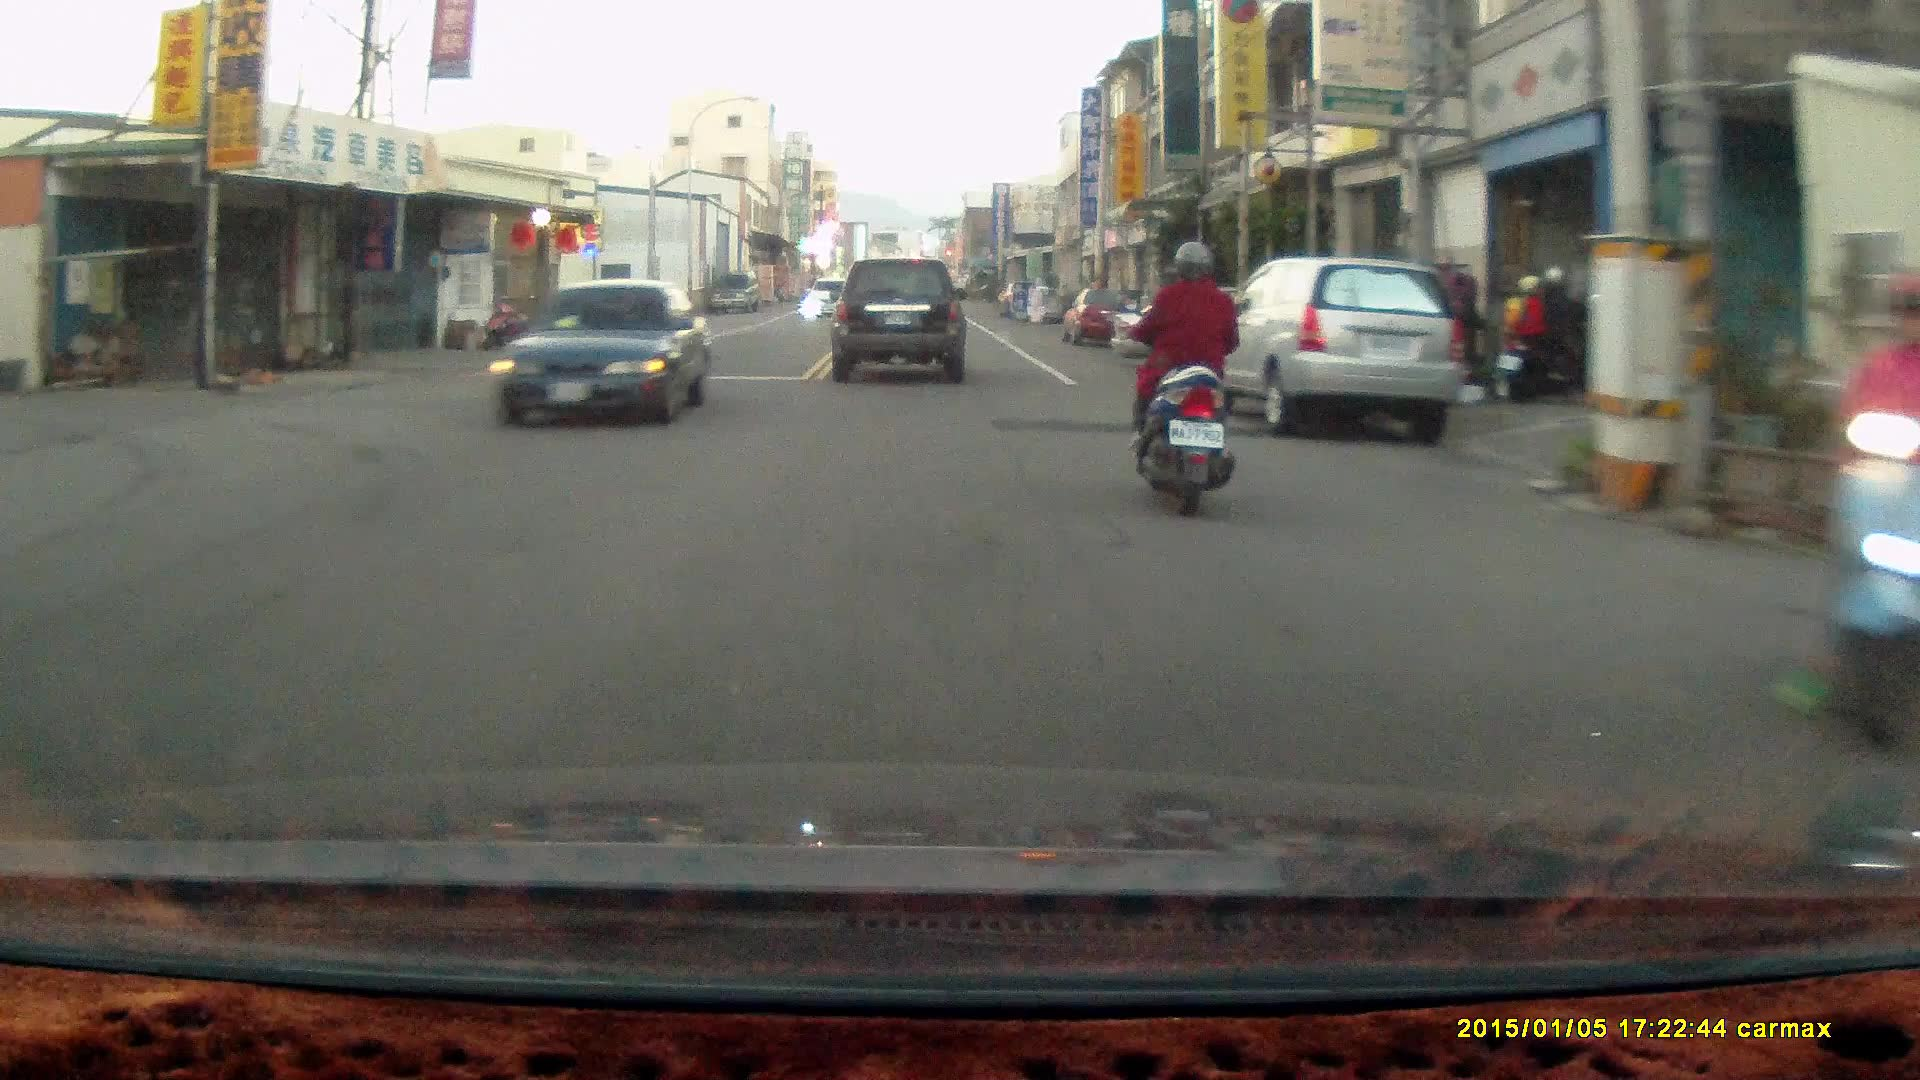rider: (1774, 272, 1920, 753), (1122, 237, 1236, 517), (1499, 258, 1584, 400)
vehicle: (1199, 261, 1460, 445), (492, 279, 713, 432), (829, 258, 969, 388), (1062, 288, 1140, 347)
